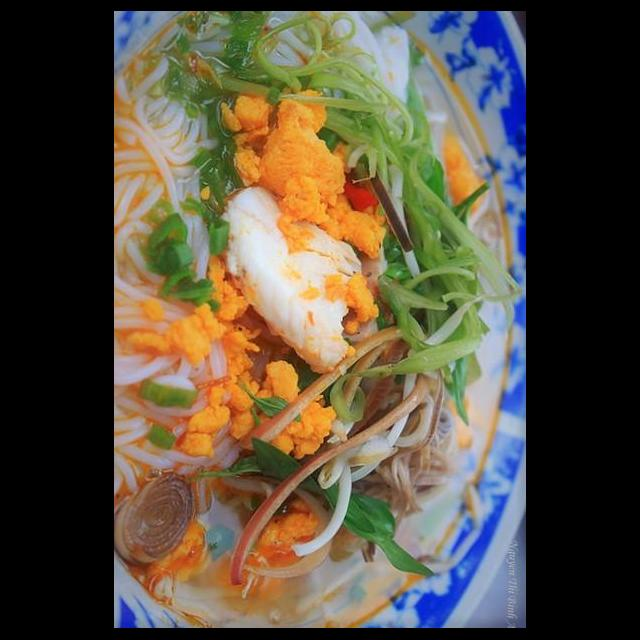bun: (115, 46, 224, 574)
bun ca: (114, 54, 514, 618)
ca: (217, 172, 366, 378)
rau ram: (370, 176, 502, 427), (246, 434, 445, 582)
tom: (250, 94, 351, 233)
